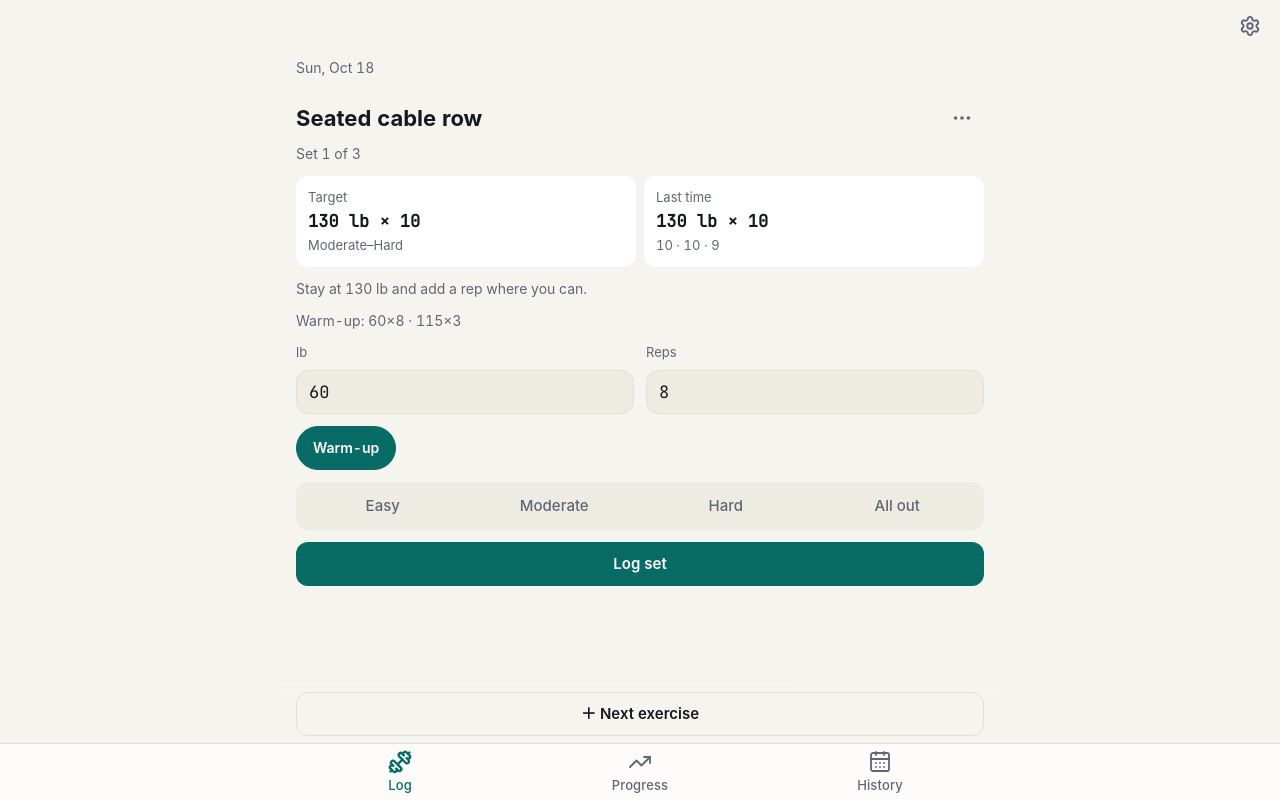
Test case: log screen › logging a working set stores it, advances the set, and leaves the targets fixed for the day
Click the button "Warm-up" at (346, 448), box [296,426,396,470]
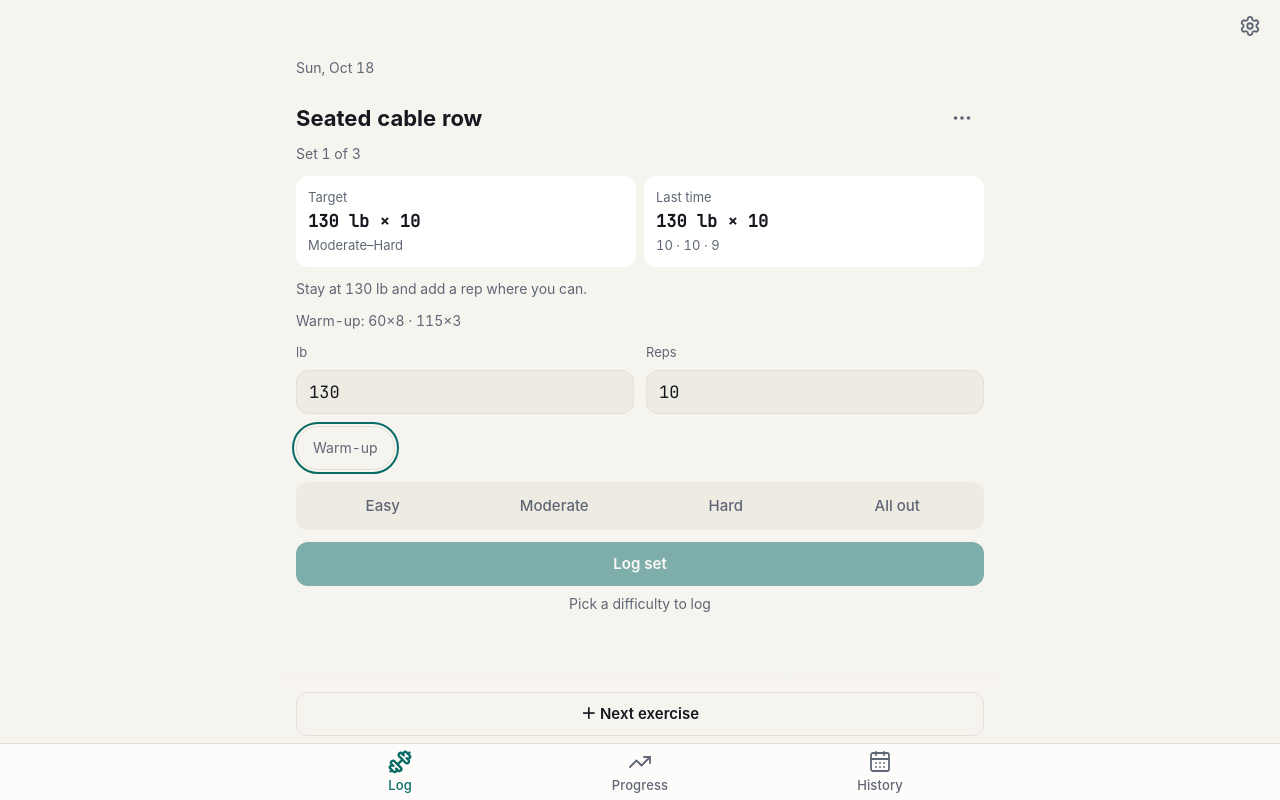
Click the radio button labelled "Hard" at (726, 506), box [641,484,810,528]
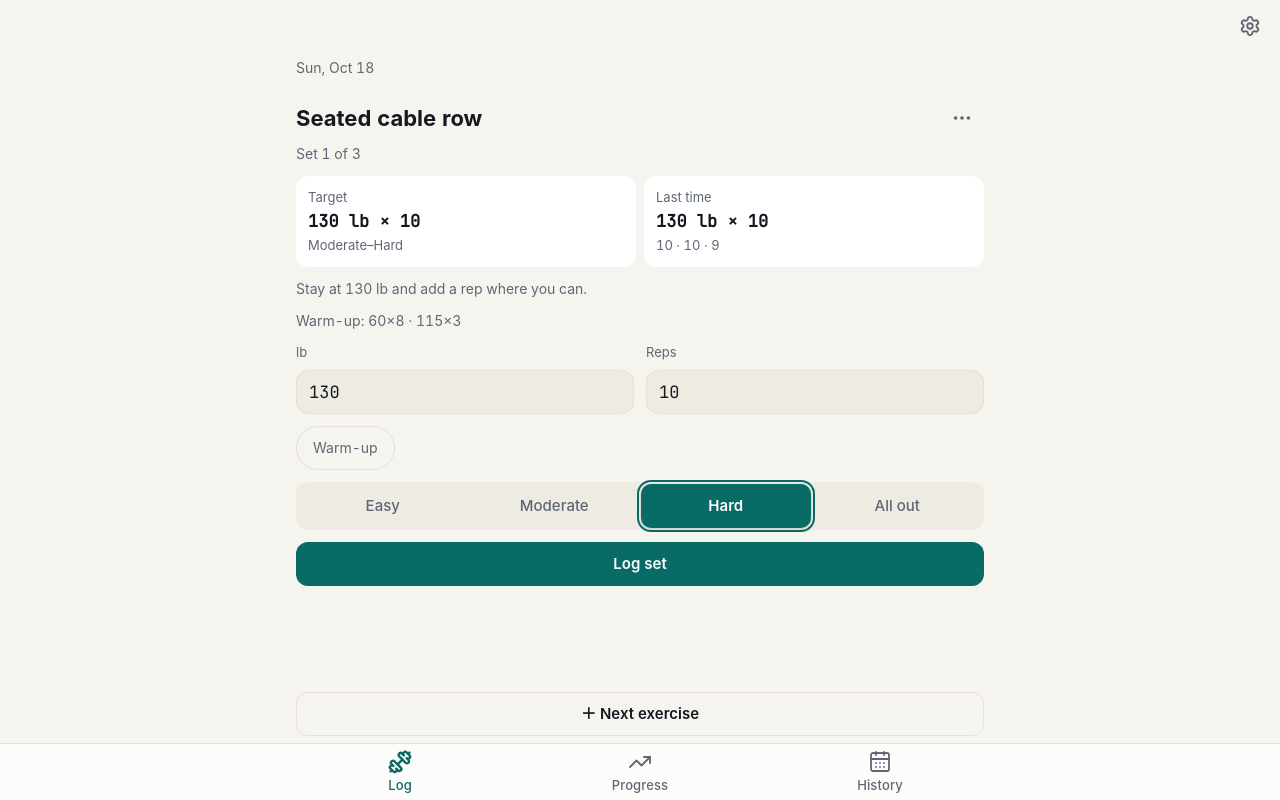
Click the button "Log set" at (640, 564), box [296,542,984,586]
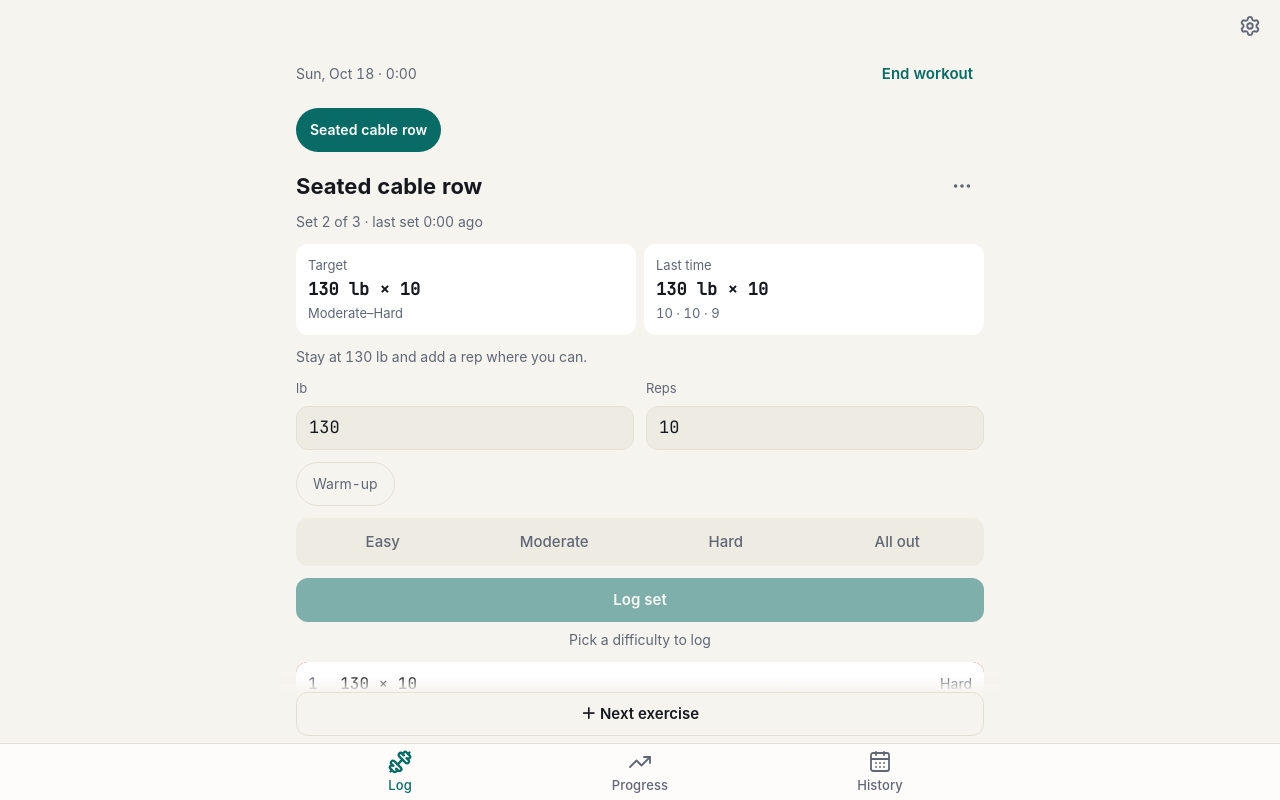
Result: the field labelled "Reps" holds "10" at [646,406,984,450]
Result: the text "Set 2 of 3 · last set 0:00 ago" is shown at [296,213,483,230]
Result: the text "Warm-up: " is gone
